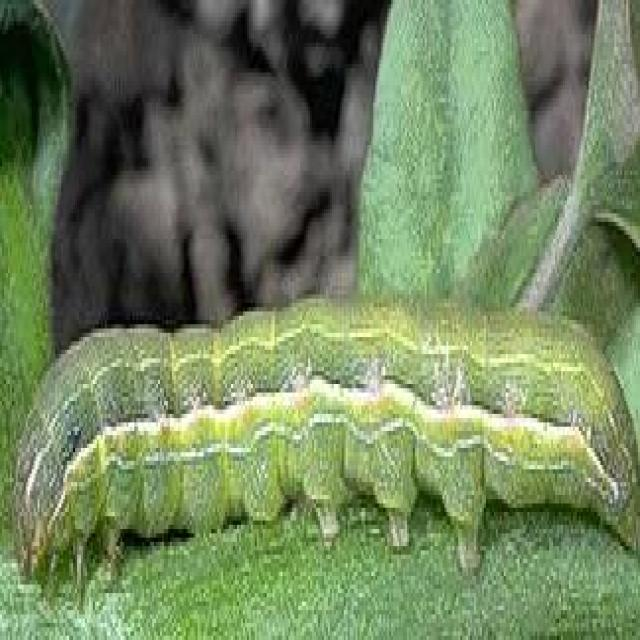BeetArmyWorm-Larva-: (12, 304, 638, 583)
